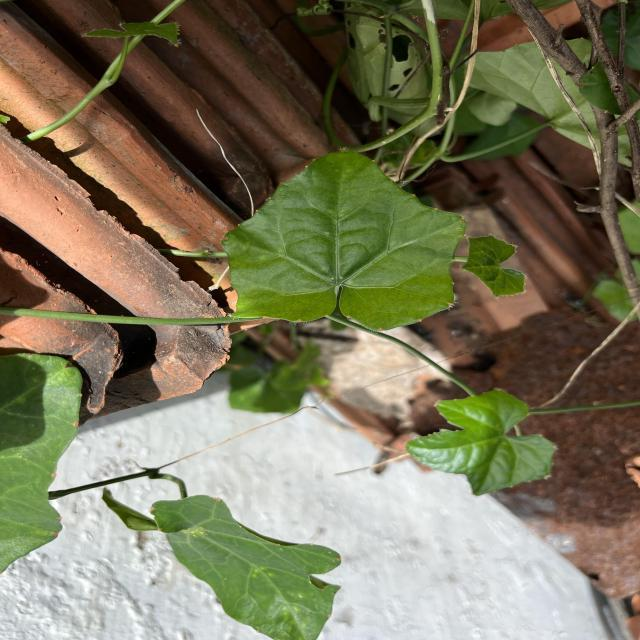Coccinia grandis: (219, 146, 468, 332)
